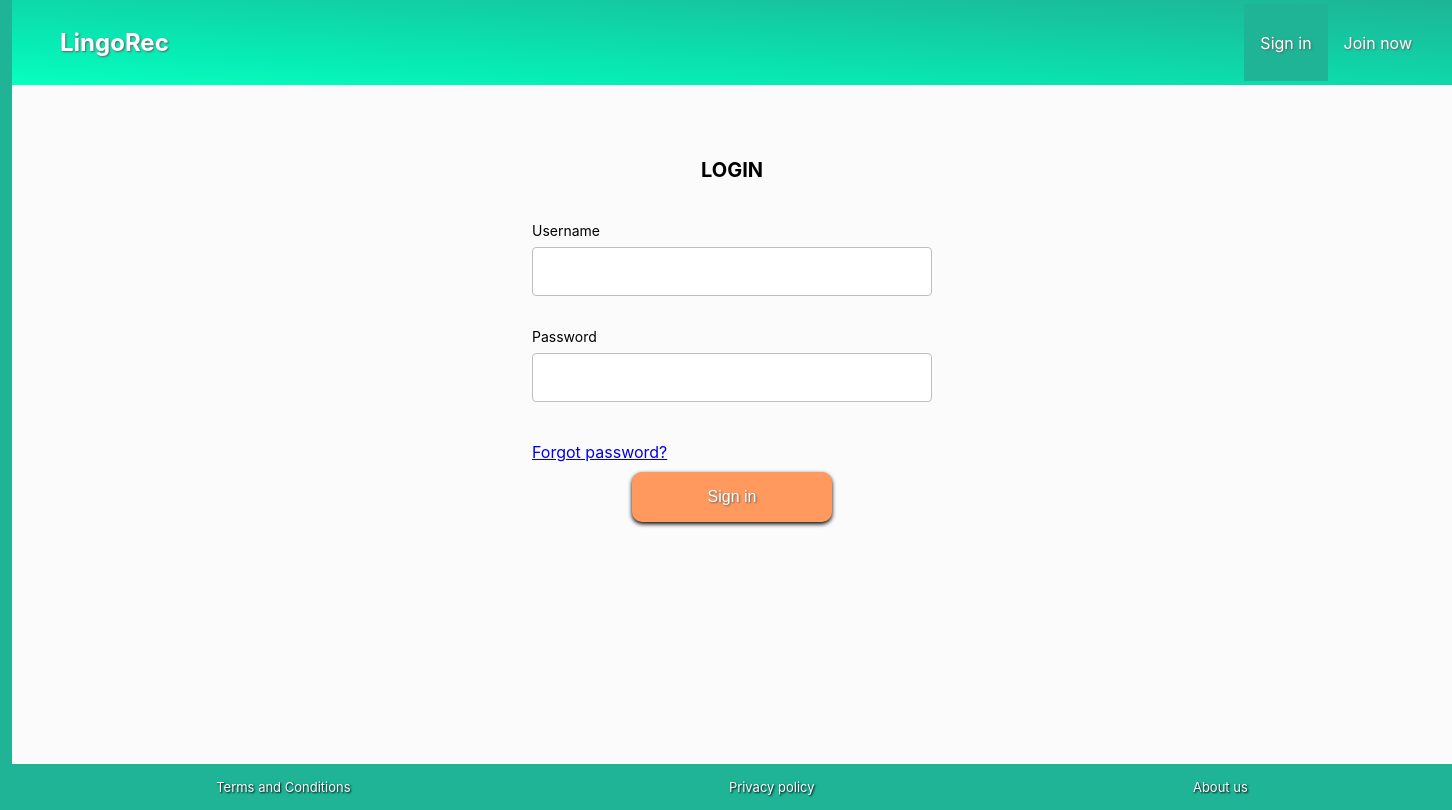
Scenario: Homepage renders again
The image size is (1452, 810).
Step 1. Click the link with test id "navbarLogo" → (114, 42), box [60,28,169,57]
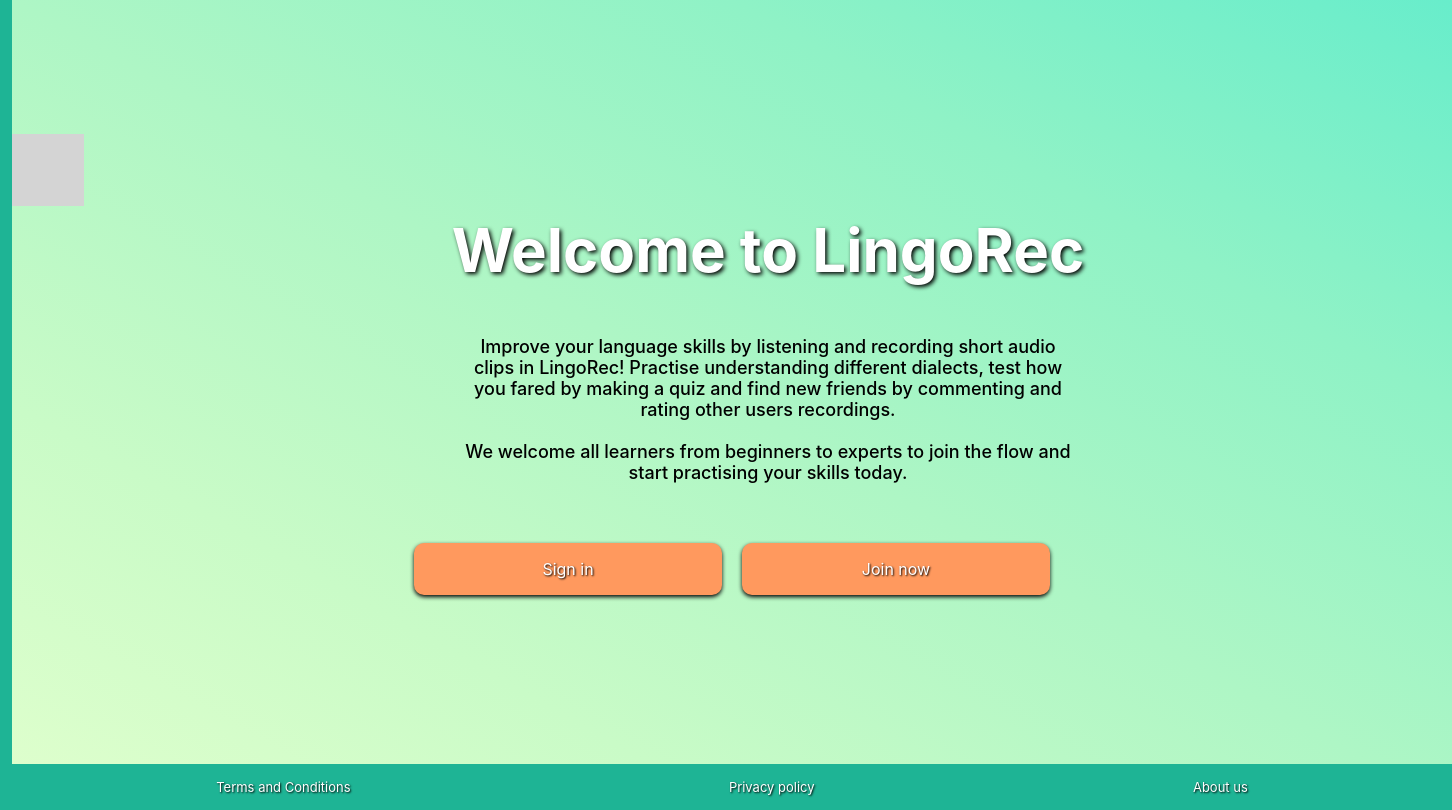
Expected: the element with test id "homepage" is shown
